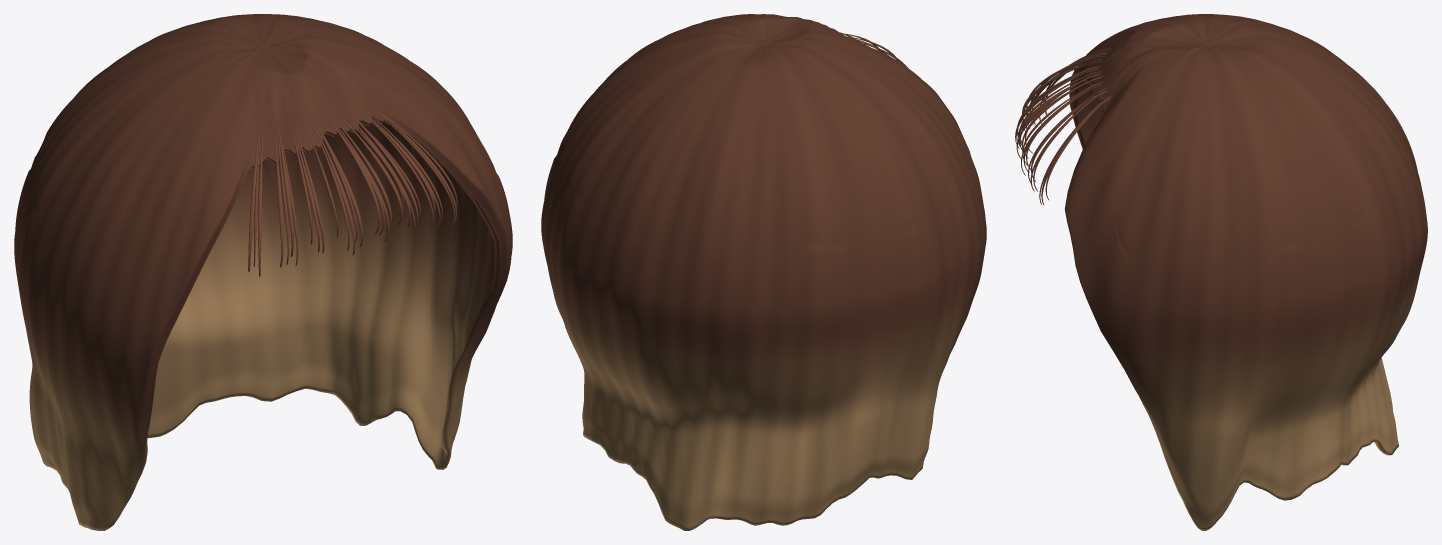
File: side-sweep-cowboy-ombre.glb
3 renders of one model, left to right at view 1: azimuth 30°, elevation 25°; view 2: azimuth 150°, elevation 25°; view 3: azimuth 270°, elevation 25°, orthographic. The views are drawn at different scales.
Visible parts, largest first — view 1: Hair / layered lob, Fringe / fine strands; view 2: Hair / layered lob; view 3: Hair / layered lob, Fringe / fine strands.
Part boxes in pixels (left/top/right/bottom): Hair / layered lob: left=14, top=14, right=512, bottom=530; Fringe / fine strands: left=248, top=107, right=457, bottom=276; Hair / layered lob: left=541, top=14, right=986, bottom=530; Hair / layered lob: left=1065, top=14, right=1427, bottom=530; Fringe / fine strands: left=1015, top=48, right=1111, bottom=204.
Bounding box in the file's own units: 0.8388 × 0.8737 × 0.782.
